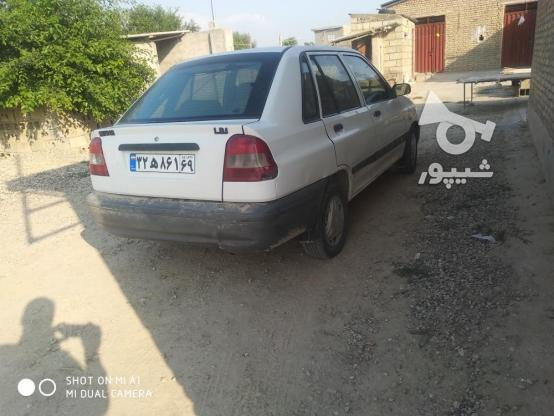car: (129, 152, 195, 174)
